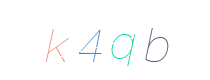4: (64, 0, 144, 80)
B: (99, 0, 179, 80)
K: (51, 0, 131, 80)
Q: (74, 0, 154, 80)
